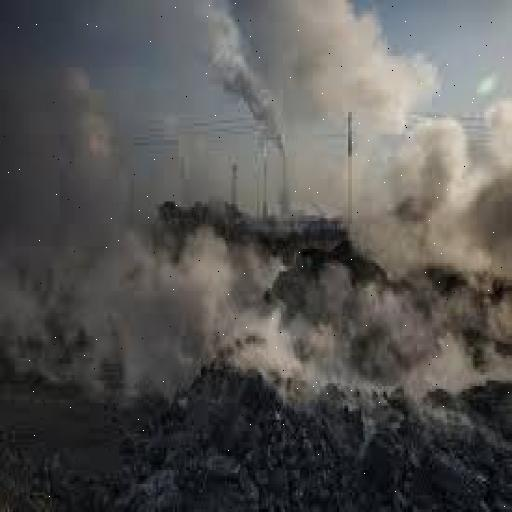smoke: (2, 84, 292, 389)
